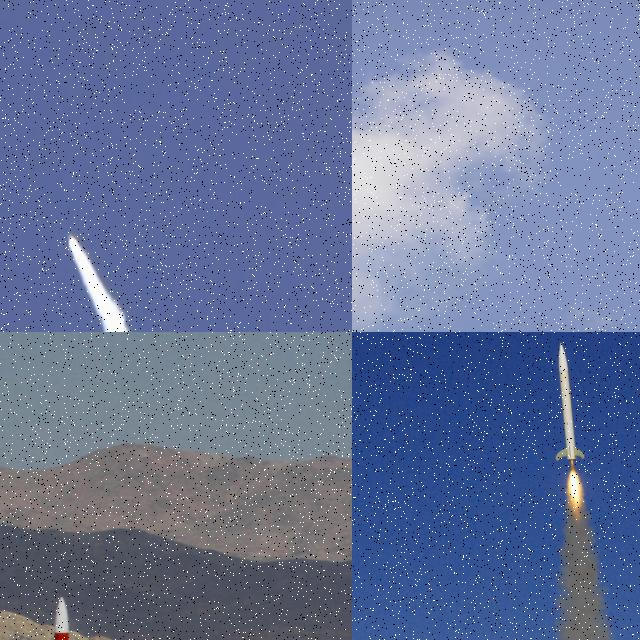Rocket: (555, 342, 585, 462), (42, 595, 80, 640), (68, 232, 72, 244)
